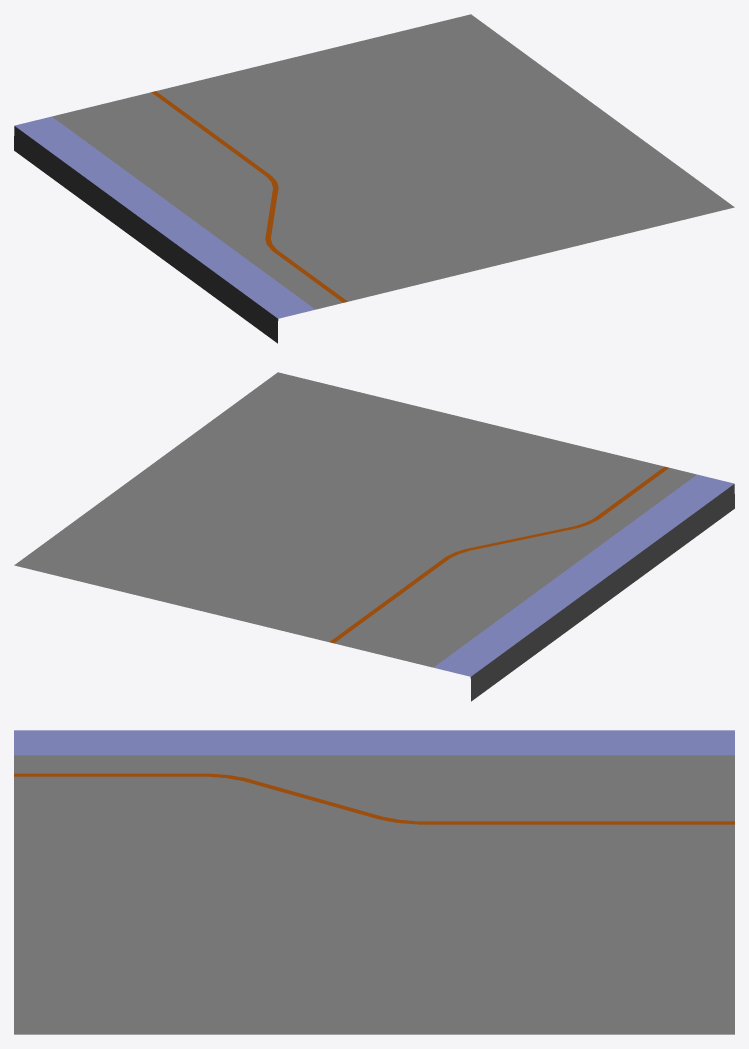
Rendered from W_M_maze_003_4x4_Bottom_a_L1.fbx.
The picture shows the model from 3 angles, top to bottom: view 1: azimuth 30°, elevation 25°; view 2: azimuth 150°, elevation 25°; view 3: azimuth 270°, elevation 25°; orthographic projection. The views are drawn at different scales.
Parts seen in each view (by area): view 1: W_M_maze_003_4x4_Bottom_a_L1; view 2: W_M_maze_003_4x4_Bottom_a_L1; view 3: W_M_maze_003_4x4_Bottom_a_L1.
Part boxes in pixels (x1=…): W_M_maze_003_4x4_Bottom_a_L1: x1=14, y1=14, x2=734, y2=343; W_M_maze_003_4x4_Bottom_a_L1: x1=14, y1=372, x2=734, y2=701; W_M_maze_003_4x4_Bottom_a_L1: x1=14, y1=730, x2=734, y2=1034.
Size of the model in its own units: 4 by 0.2081 by 4.
